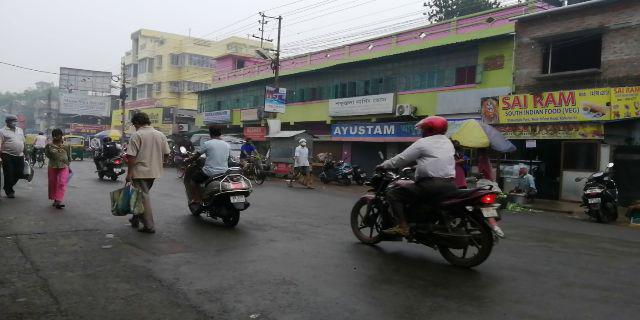Motorbike: (343, 111, 504, 273), (177, 127, 255, 228), (95, 133, 125, 185)
